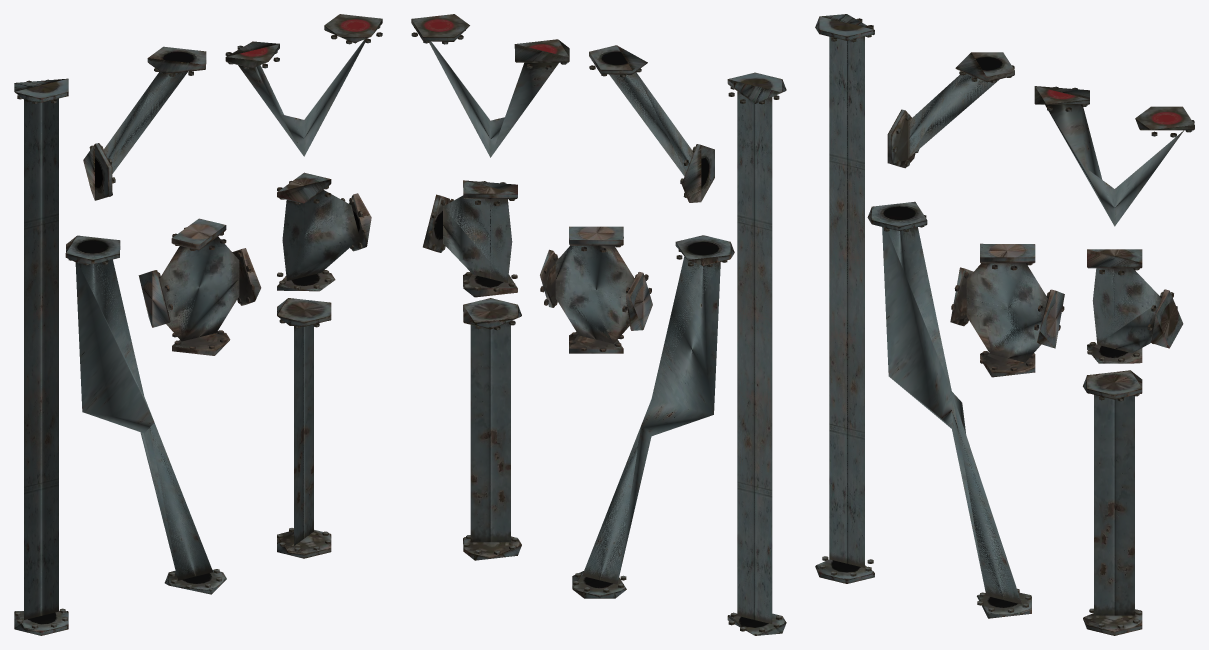
File: modular_industrial_pipes_01.glb
3 renders of one model, left to right at view 1: azimuth 30°, elevation 25°; view 2: azimuth 150°, elevation 25°; view 3: azimuth 330°, elevation 25°, orthographic.
Parts seen in each view (by area): view 1: modular_industrial_pipes_01_pipe01, modular_industrial_pipes_01_pipe05; view 2: modular_industrial_pipes_01_pipe01, modular_industrial_pipes_01_pipe05; view 3: modular_industrial_pipes_01_pipe01, modular_industrial_pipes_01_pipe05.
Boxes of the visible parts, box(x1,y1,x2,y2) form: modular_industrial_pipes_01_pipe01: box(14, 46, 331, 635); modular_industrial_pipes_01_pipe05: box(138, 14, 382, 355); modular_industrial_pipes_01_pipe01: box(463, 45, 786, 635); modular_industrial_pipes_01_pipe05: box(411, 14, 652, 353); modular_industrial_pipes_01_pipe01: box(815, 14, 1142, 635); modular_industrial_pipes_01_pipe05: box(950, 86, 1194, 377).
Bounding box in the file's own units: 1.4 × 1.95 × 0.2066.
Materials: 2 (2 with a texture image).
